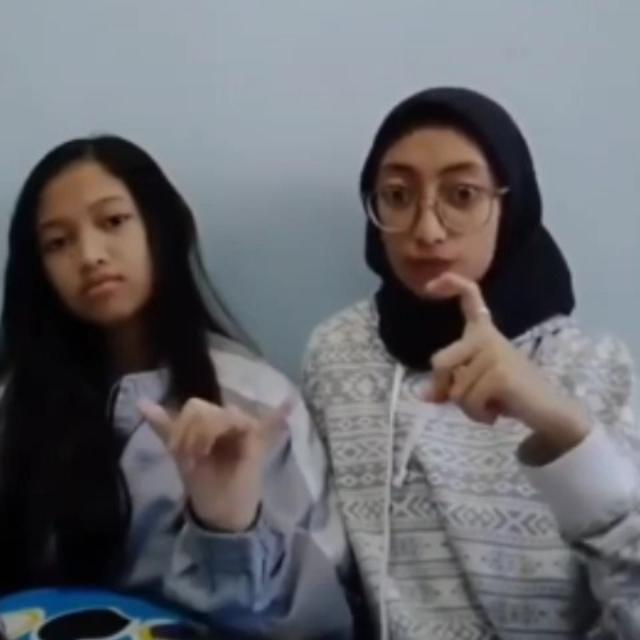X: (408, 270, 536, 442)
Y: (128, 378, 318, 510)
